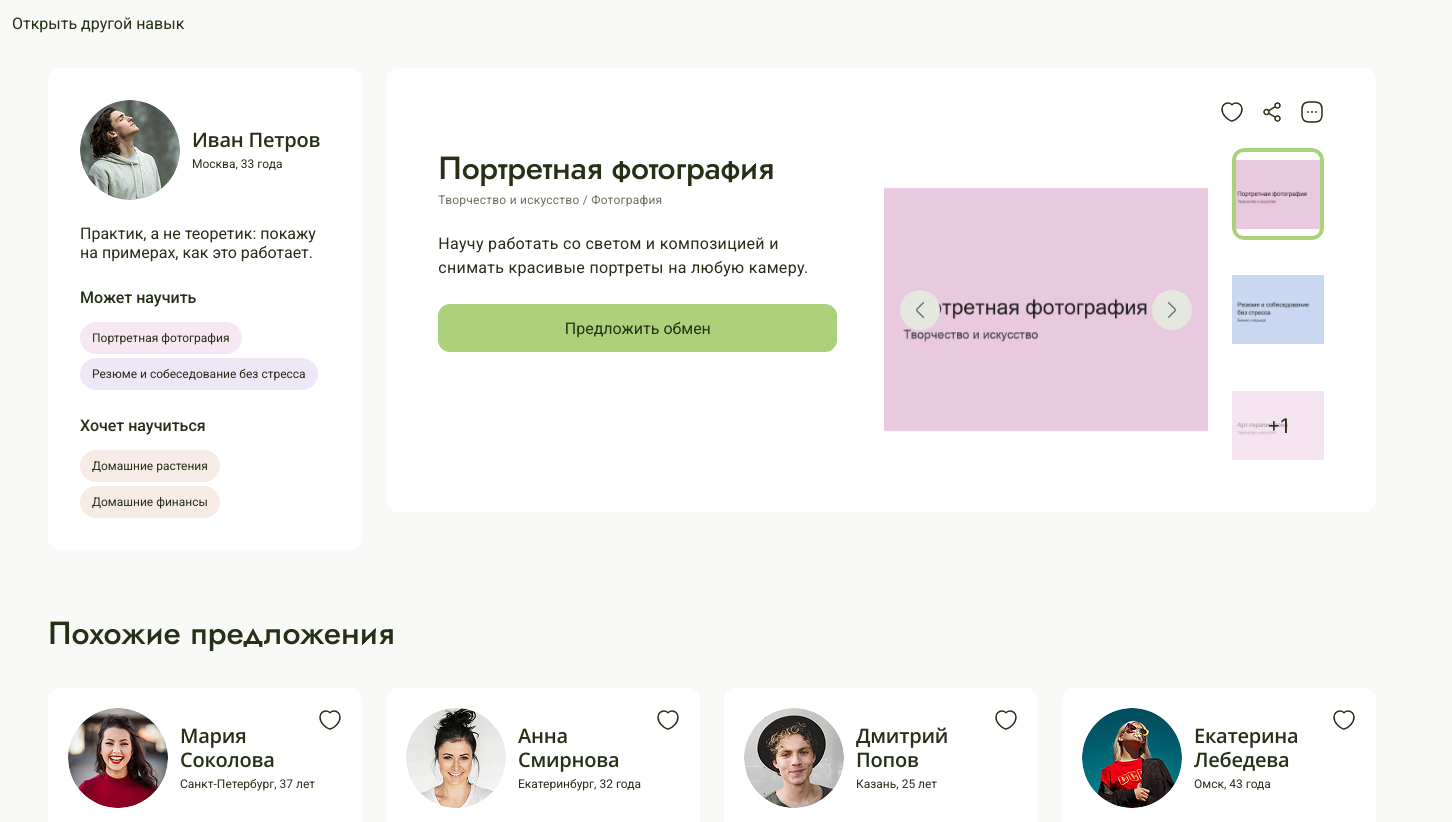
Test: SkillPage › перенаправляет неавторизованного пользователя на страницу входа при нажатии «Предложить обмен»
Click the button "Предложить обмен". click: (638, 328)
box: top-left (438, 304), bottom-right (837, 352)
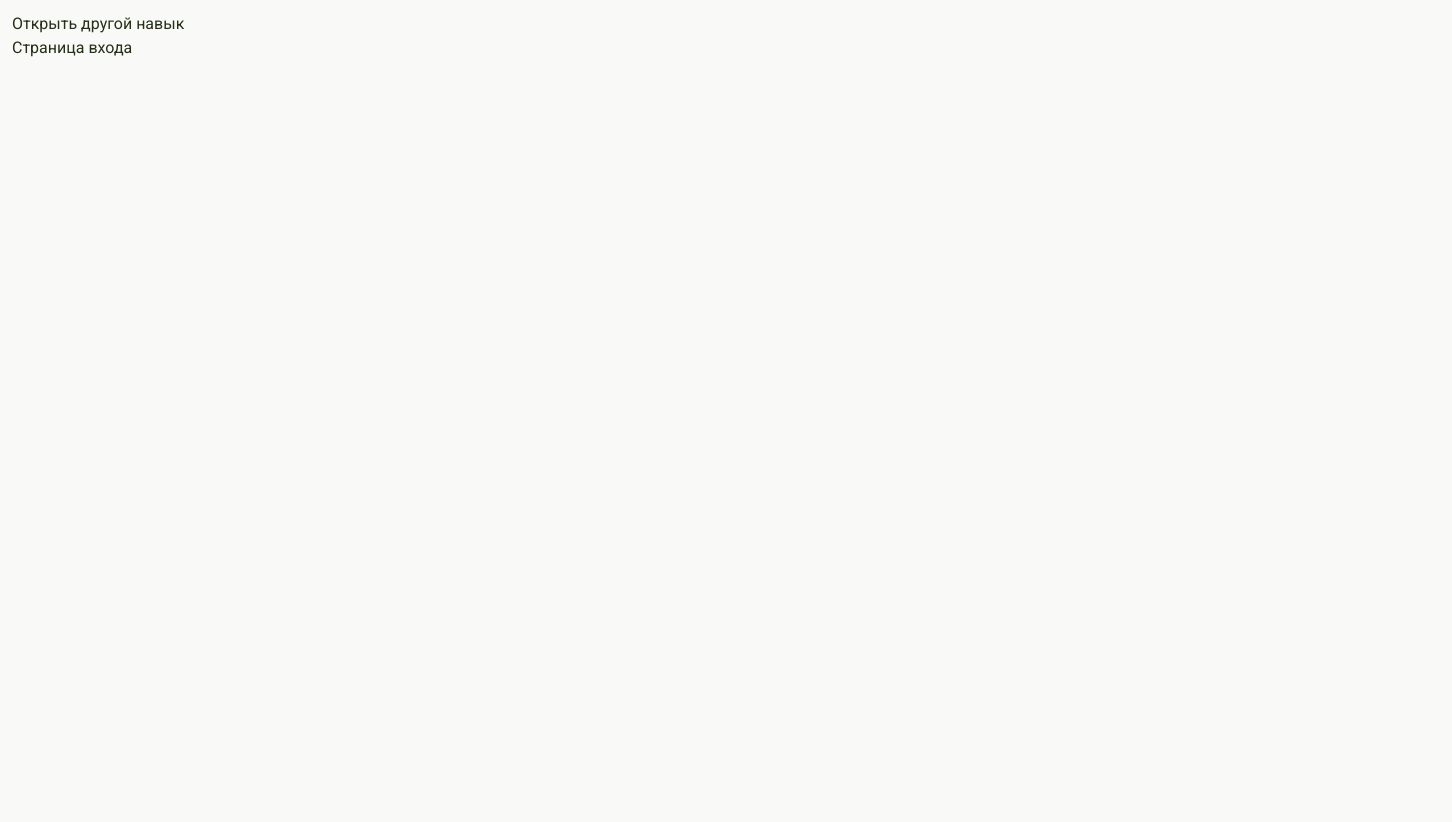
Expected: the text "Страница входа" is shown, top-left (12, 38), bottom-right (132, 57)
